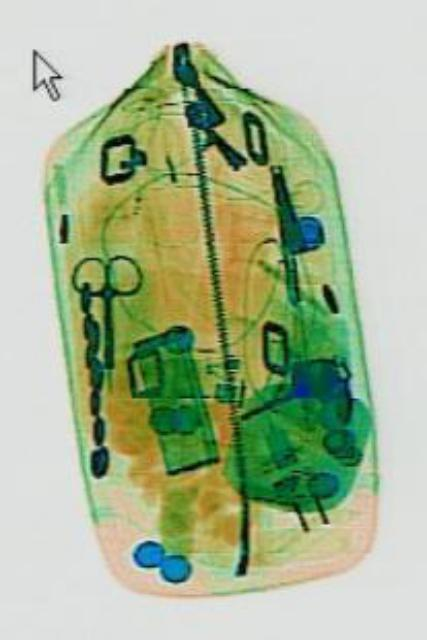Scissors: (68, 250, 141, 366)
